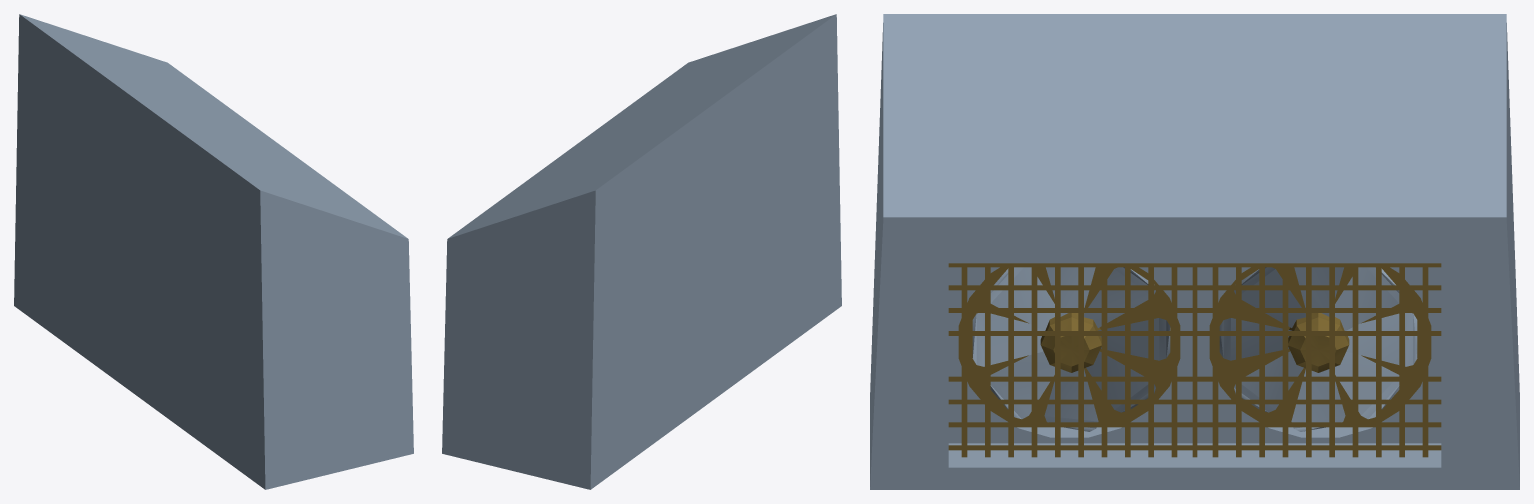
Rendered from Track_full_002_track.fbx.
3 views of the same model, side by side, from view 1: azimuth 30°, elevation 25°; view 2: azimuth 150°, elevation 25°; view 3: azimuth 270°, elevation 25° (orthographic). The views are drawn at different scales.
Visible parts, largest first — view 1: Track_full.002.track; view 2: Track_full.002.track; view 3: Track_full.002.track.
Part boxes in pixels (bbox=[...]): Track_full.002.track: bbox=[14, 14, 413, 489]; Track_full.002.track: bbox=[442, 14, 841, 489]; Track_full.002.track: bbox=[870, 14, 1519, 489].
Size of the model in its own units: 0.5185 by 0.9865 by 1.52.
